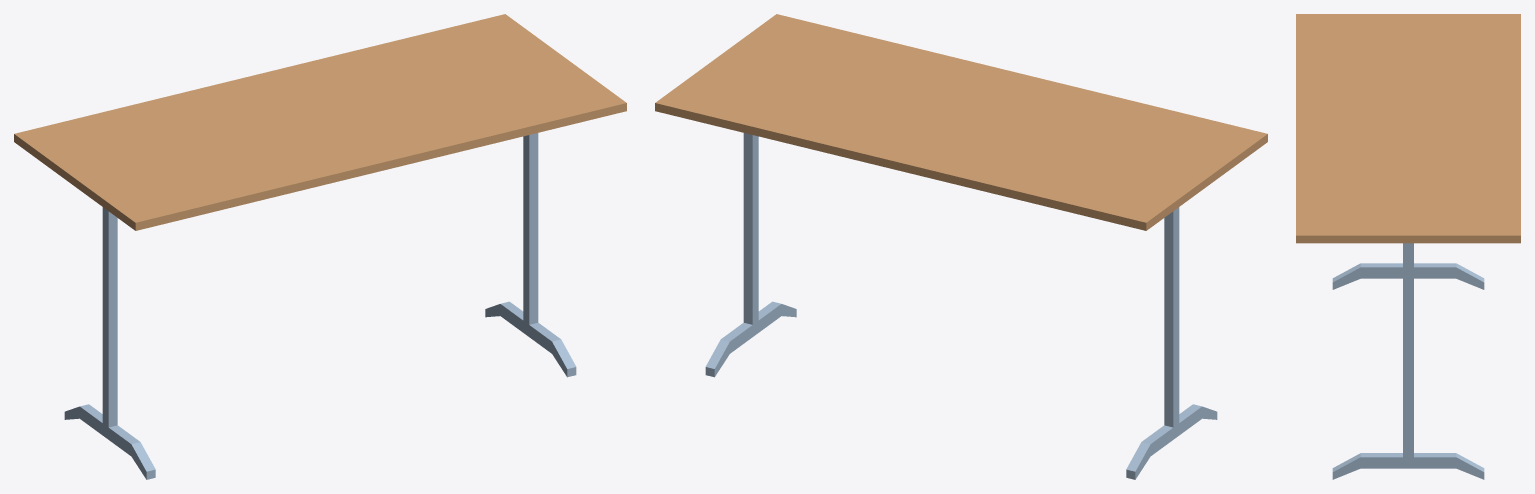
File: wooden_desk.dae
3 views of the same model, side by side, from view 1: azimuth 30°, elevation 25°; view 2: azimuth 150°, elevation 25°; view 3: azimuth 270°, elevation 25° (orthographic). The views are drawn at different scales.
Parts seen in each view (by area): view 1: Node_0x55ba5a94e030, Node_0x55ba5a94e930, Node_0x55ba5a3dad50; view 2: Node_0x55ba5a94e030, Node_0x55ba5a94e930, Node_0x55ba5a3dad50; view 3: Node_0x55ba5a94e030, Node_0x55ba5a3dad50, Node_0x55ba5a94e930.
Part boxes in pixels (x1,y1,x2,y2): Node_0x55ba5a94e030: (14,14,626,230); Node_0x55ba5a94e930: (64,207,155,479); Node_0x55ba5a3dad50: (485,133,576,377); Node_0x55ba5a94e030: (655,14,1267,230); Node_0x55ba5a94e930: (1126,207,1217,479); Node_0x55ba5a3dad50: (705,133,796,377); Node_0x55ba5a94e030: (1296,14,1520,243); Node_0x55ba5a3dad50: (1332,243,1484,479); Node_0x55ba5a94e930: (1332,263,1484,289).
Bounding box in the file's own units: 140 × 76 × 60.
